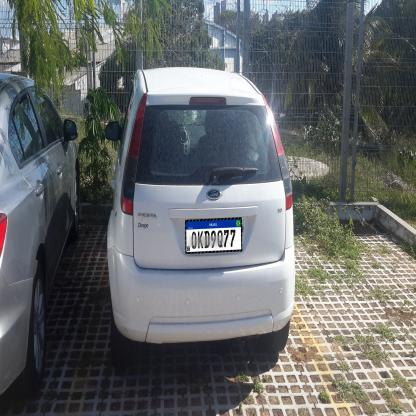PlacaM: (185, 217, 242, 254)
